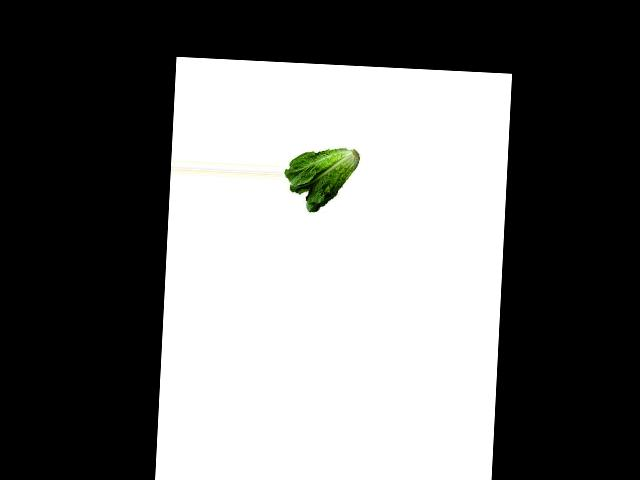lettuce: (281, 142, 359, 217)
